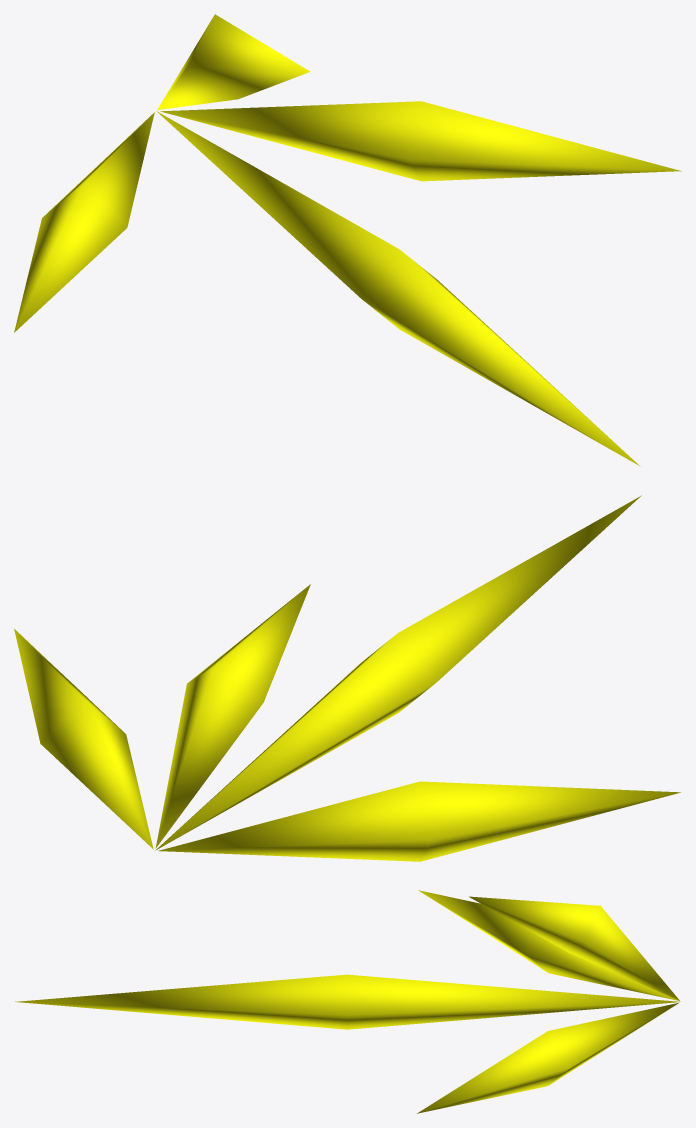
The model's file is gyro_hook.fbx.
The picture shows the model from 3 angles, top to bottom: view 1: azimuth 30°, elevation 25°; view 2: azimuth 150°, elevation 25°; view 3: azimuth 270°, elevation 25°; orthographic projection. The views are drawn at different scales.
Parts seen in each view (by area): view 1: right, base, left, up; view 2: left, base, up, right; view 3: base, right, up, left.
Part boxes in pixels (box(x1,y1,x2,y2)): right: box(160, 101, 681, 181); base: box(156, 111, 640, 466); left: box(14, 112, 154, 332); up: box(157, 14, 310, 109); left: box(158, 781, 680, 861); base: box(155, 495, 641, 850); up: box(155, 584, 310, 848); right: box(14, 628, 153, 849); base: box(15, 974, 680, 1029); right: box(417, 1002, 679, 1113); up: box(469, 896, 679, 1000); left: box(418, 890, 679, 1000).
Bounding box in the file's own units: 139 × 38.49 × 175.
